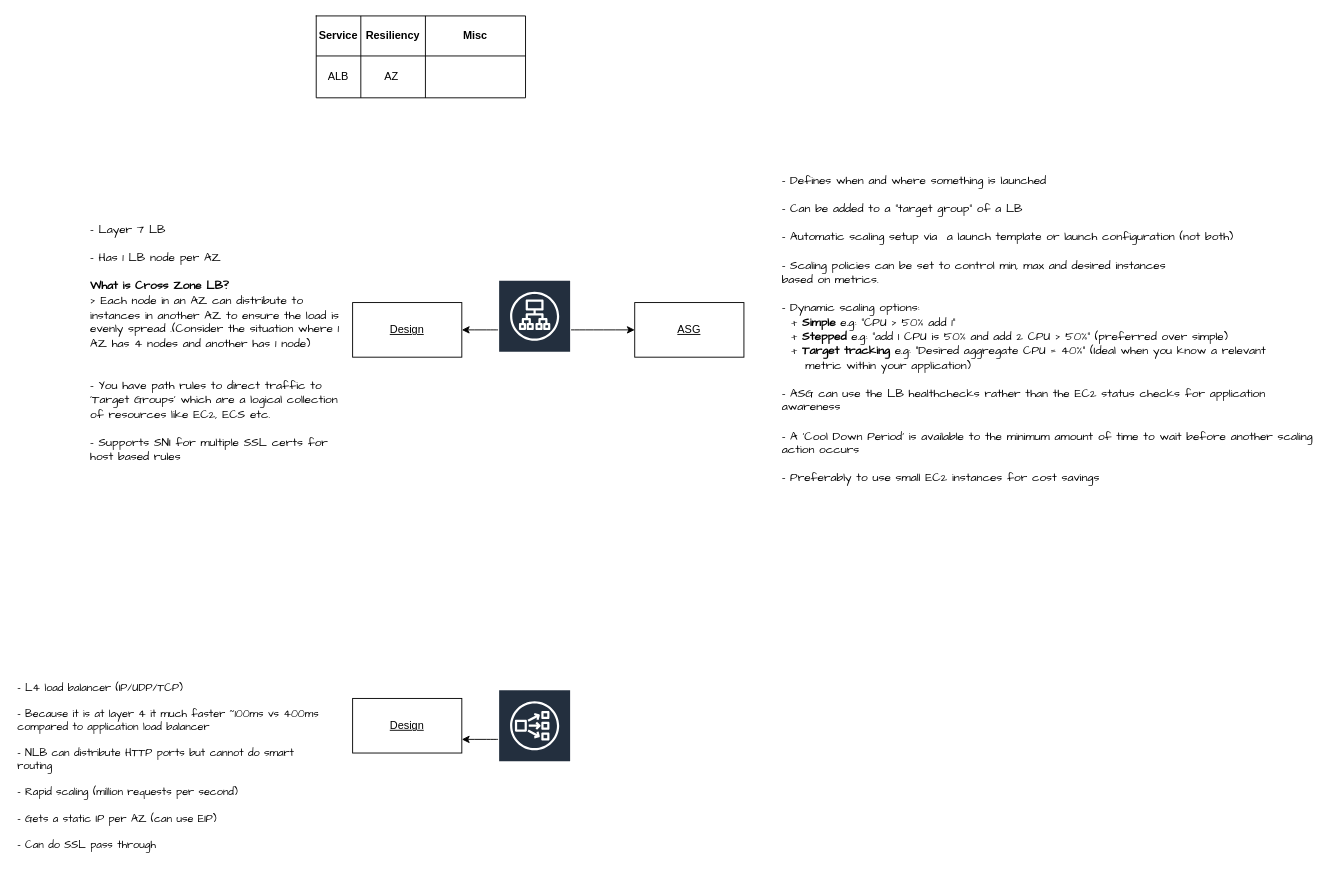
Some shapes in this 1341 by 869 pixel diagram are drawn without their labels. Here are the shapes that lost their labels. From the top down, the centre of each, then its label:
pixel 534 329: Application Load Balancer
pixel 534 738: Network Load Balancer
